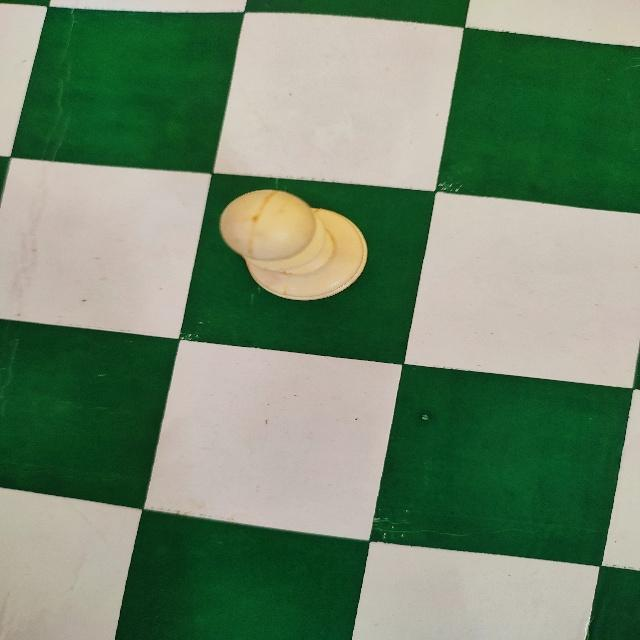Pawn: (218, 187, 369, 302)
